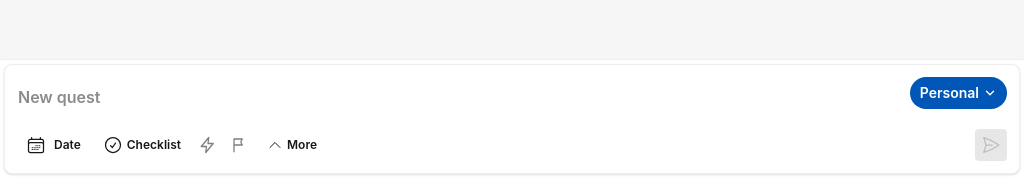
Test case: NewQuestForm › allows non-empty metadata drafts to collapse
Click the button with test id "new-quest-expand".
click(292, 145)  # box [258,129,326,161]
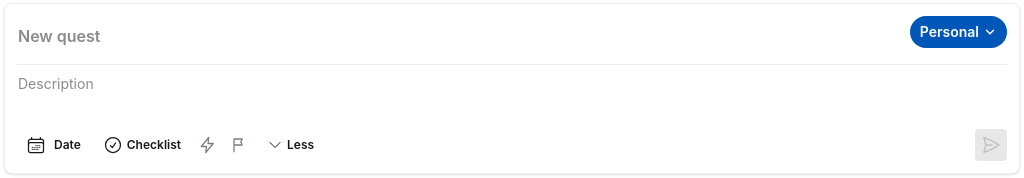
Type "Keep this hidden while collapsed" into the text box with test id "new-quest-description".
click(177, 95); type("Keep this hidden while collapsed")  # box [17,73,337,117]
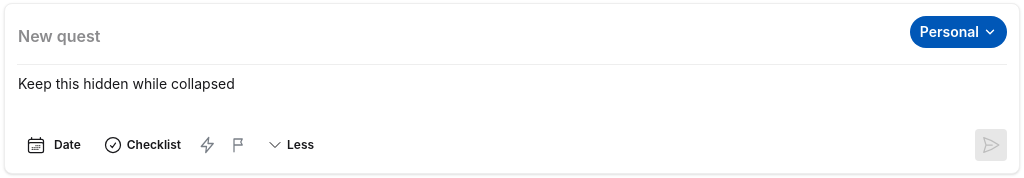
Click the button with test id "new-quest-expand".
click(291, 145)  # box [258,129,323,161]
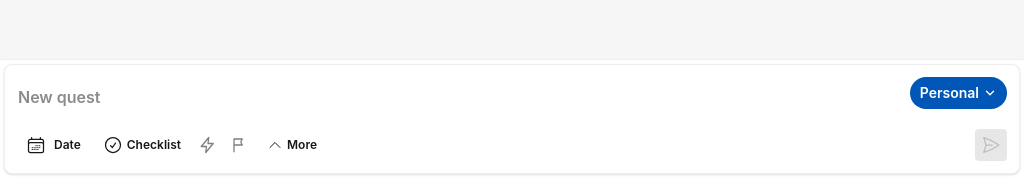
Result: the button with test id "new-quest-expand" reads "More"
Result: the button with test id "new-quest-expand" is collapsed
Click the button with test id "new-quest-expand".
click(292, 145)  # box [258,129,326,161]
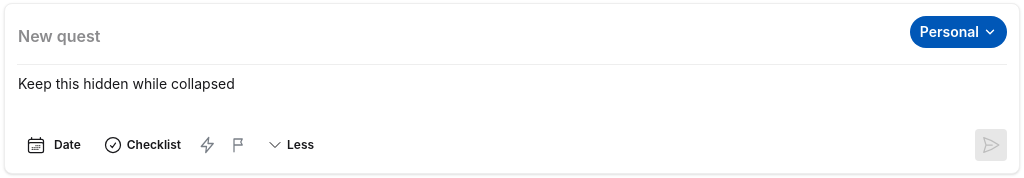
Result: the text box with test id "new-quest-description" holds "Keep this hidden while collapsed" at [17,73,337,117]
